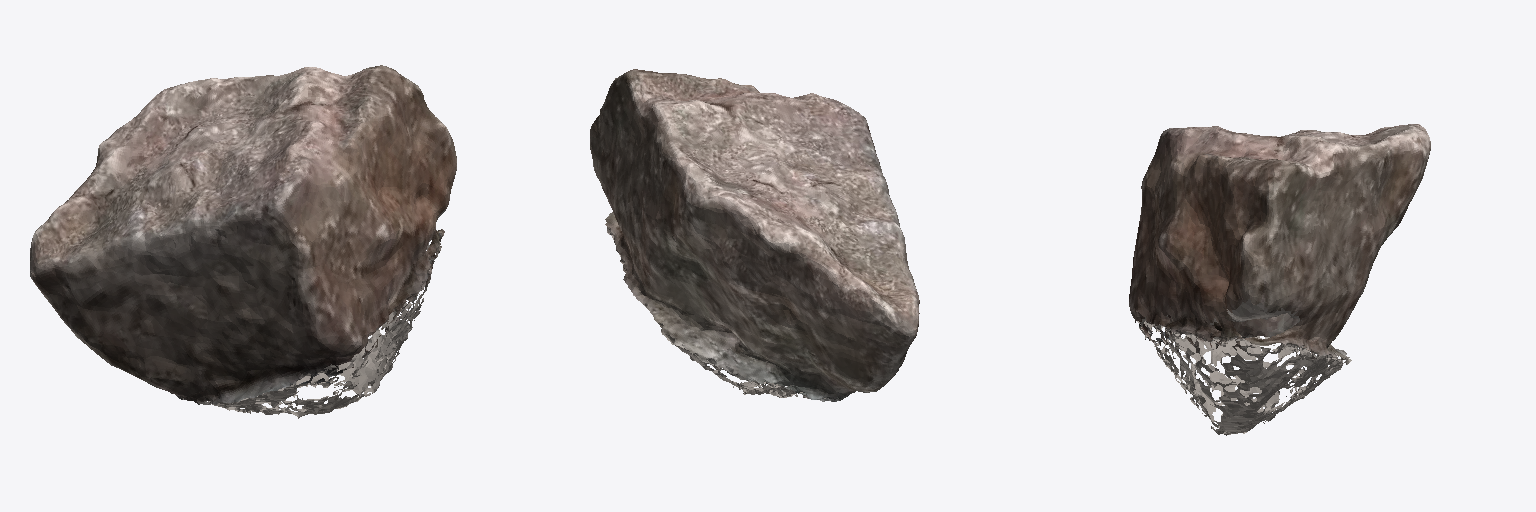
3 views of the same model, side by side, from view 1: azimuth 30°, elevation 25°; view 2: azimuth 150°, elevation 25°; view 3: azimuth 270°, elevation 25° (orthographic).
Size of the model in its own units: 0.6692 by 0.5305 by 0.4706.
Materials: 5 (5 with a texture image).